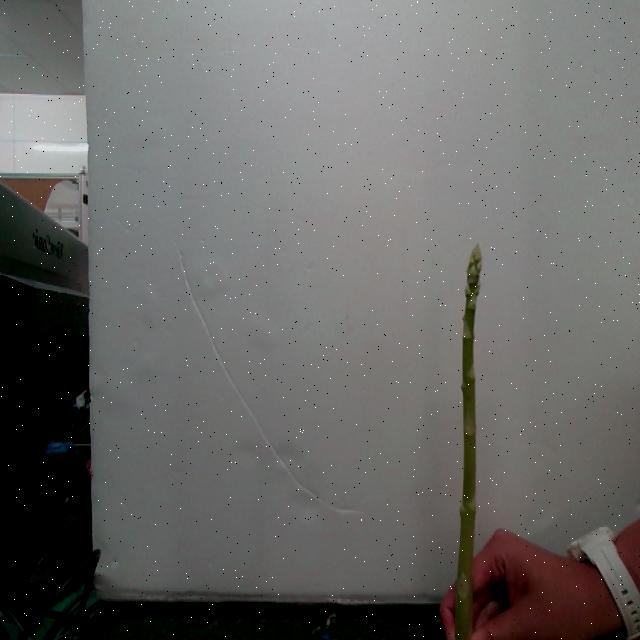aspargus: (454, 246, 483, 640)
